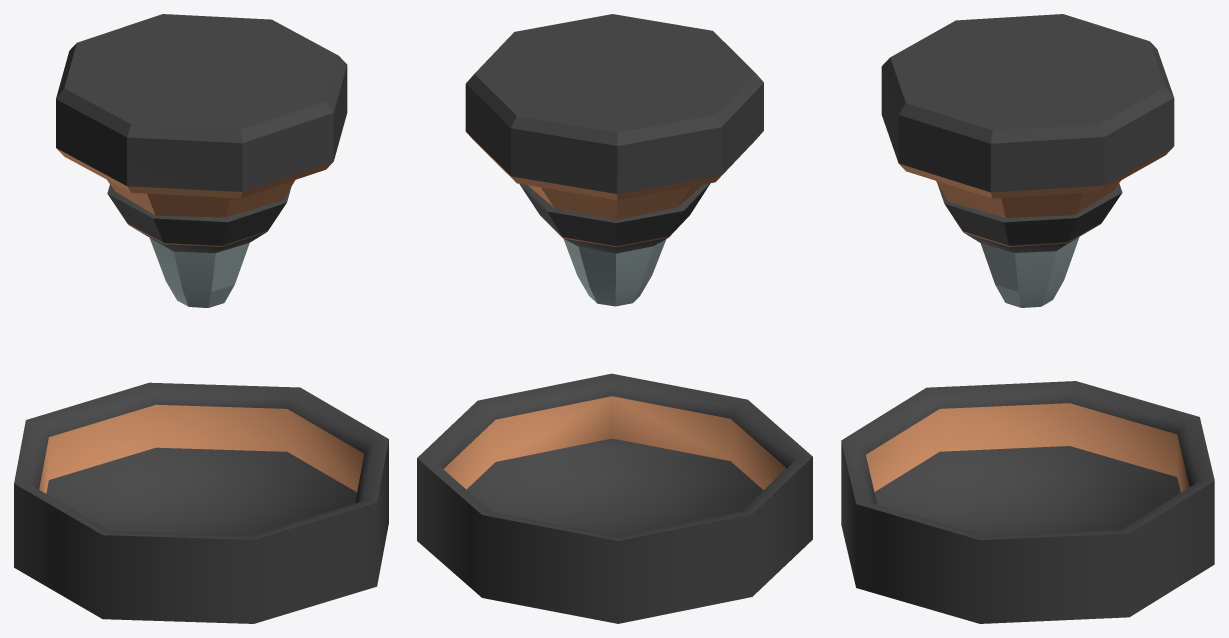
The model's file is Tubos 1.fbx.
The picture shows the model from 3 angles, left to right: view 1: azimuth 30°, elevation 25°; view 2: azimuth 150°, elevation 25°; view 3: azimuth 270°, elevation 25°; orthographic projection.
Visible parts, largest first — view 1: PipeParede.001, PipeParede.002; view 2: PipeParede.001, PipeParede.002; view 3: PipeParede.001, PipeParede.002.
Part boxes in pixels (left/top/right/bottom): PipeParede.001: left=14, top=382, right=388, bottom=623; PipeParede.002: left=56, top=14, right=347, bottom=307; PipeParede.001: left=417, top=373, right=812, bottom=623; PipeParede.002: left=465, top=14, right=763, bottom=306; PipeParede.001: left=841, top=381, right=1214, bottom=623; PipeParede.002: left=881, top=14, right=1174, bottom=307.
Size of the model in its own units: 17.38 by 24.06 by 17.24.
